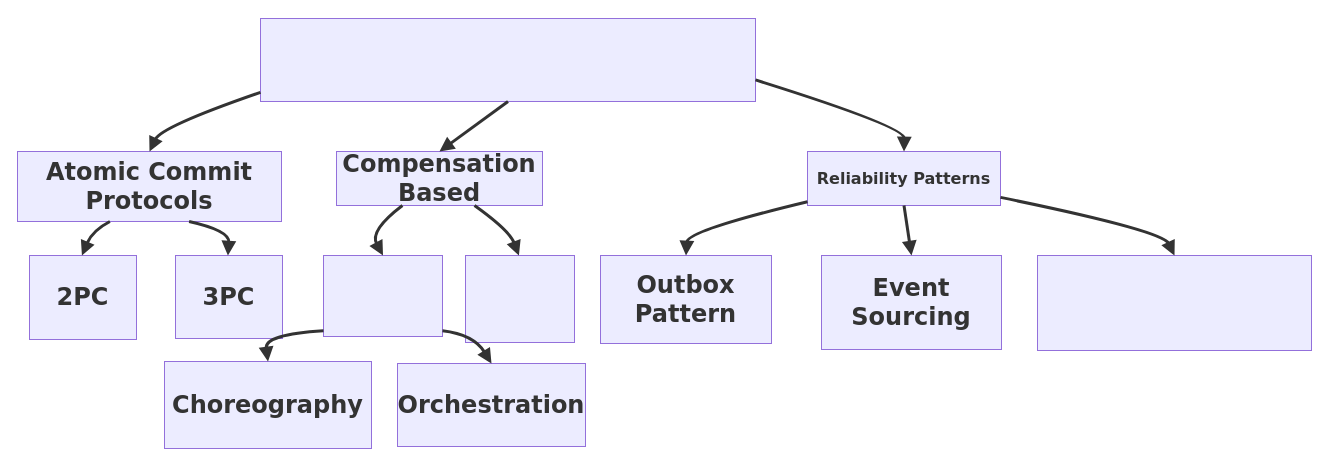
The diagram is 1329 pixels wide and 466 high, and some of its shapes have lost their labels. The shapes that lost their labels are listed below. From the top down, each one's box as (x1, y1, x2, y2) in pixels, then its label:
(260, 18, 756, 102): Distributed Transactions
(322, 254, 442, 336): Saga
(464, 254, 574, 342): TCC
(1036, 254, 1312, 350): Compensation Transactions
